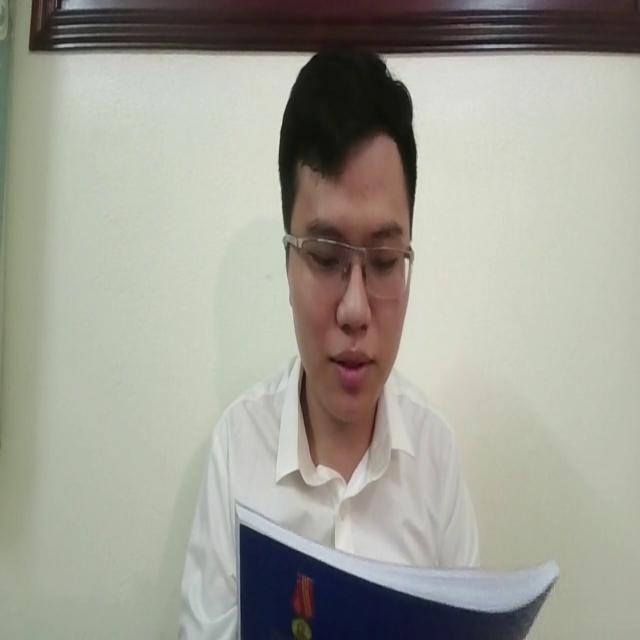book: (228, 474, 560, 640)
student: (175, 33, 479, 590)
